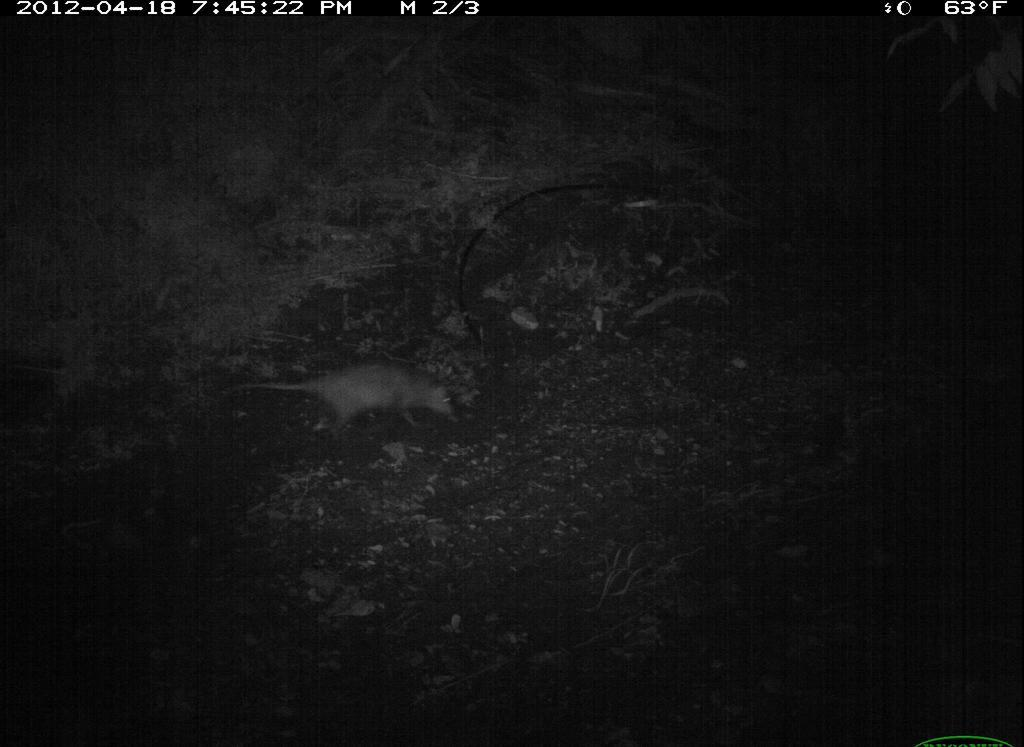opossum: (232, 337, 479, 452)
